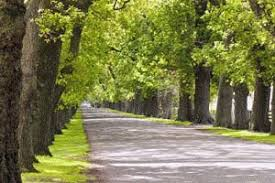forest: (4, 3, 273, 158)
